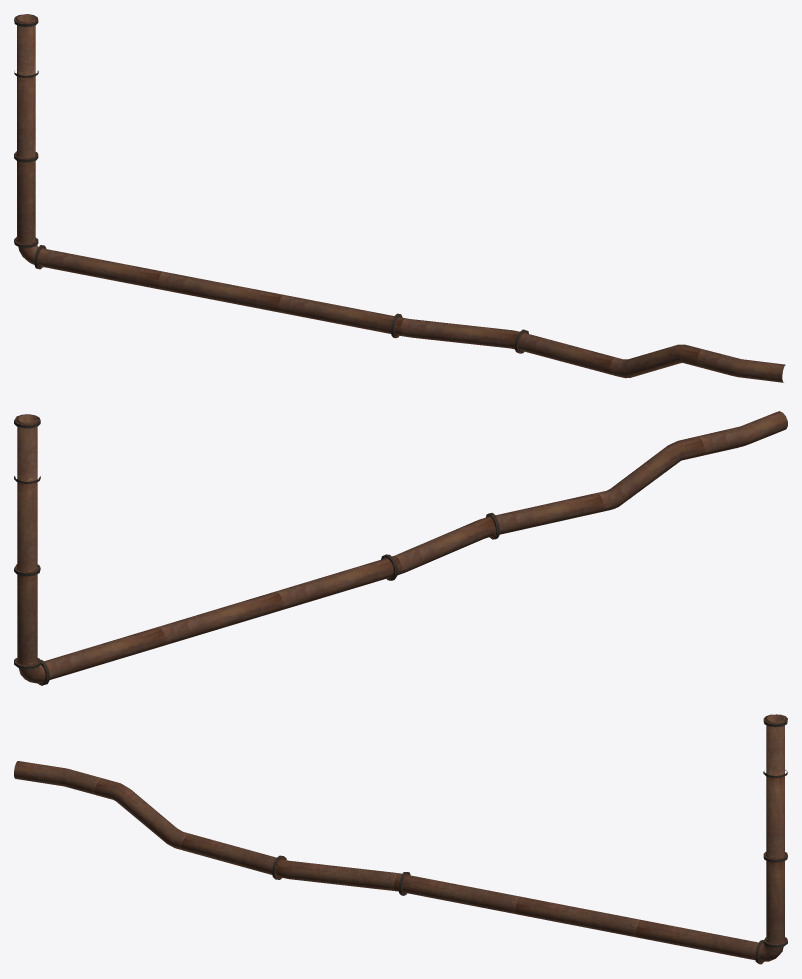
The model's file is evac_pipes.glb.
3 views of the same model, one above another, from view 1: azimuth 90°, elevation 25°; view 2: azimuth 150°, elevation 25°; view 3: azimuth 270°, elevation 25° (orthographic). The views are drawn at different scales.
Parts seen in each view (by area): view 1: evac_pipes_LOD0; view 2: evac_pipes_LOD0; view 3: evac_pipes_LOD0.
Boxes of the visible parts, x1,y1,x2,y2 form: evac_pipes_LOD0: (14,14,785,382); evac_pipes_LOD0: (14,411,787,685); evac_pipes_LOD0: (14,714,787,964).
Bounding box in the file's own units: 15.3 × 10.99 × 31.12.
Materials: 3 (3 with a texture image).
